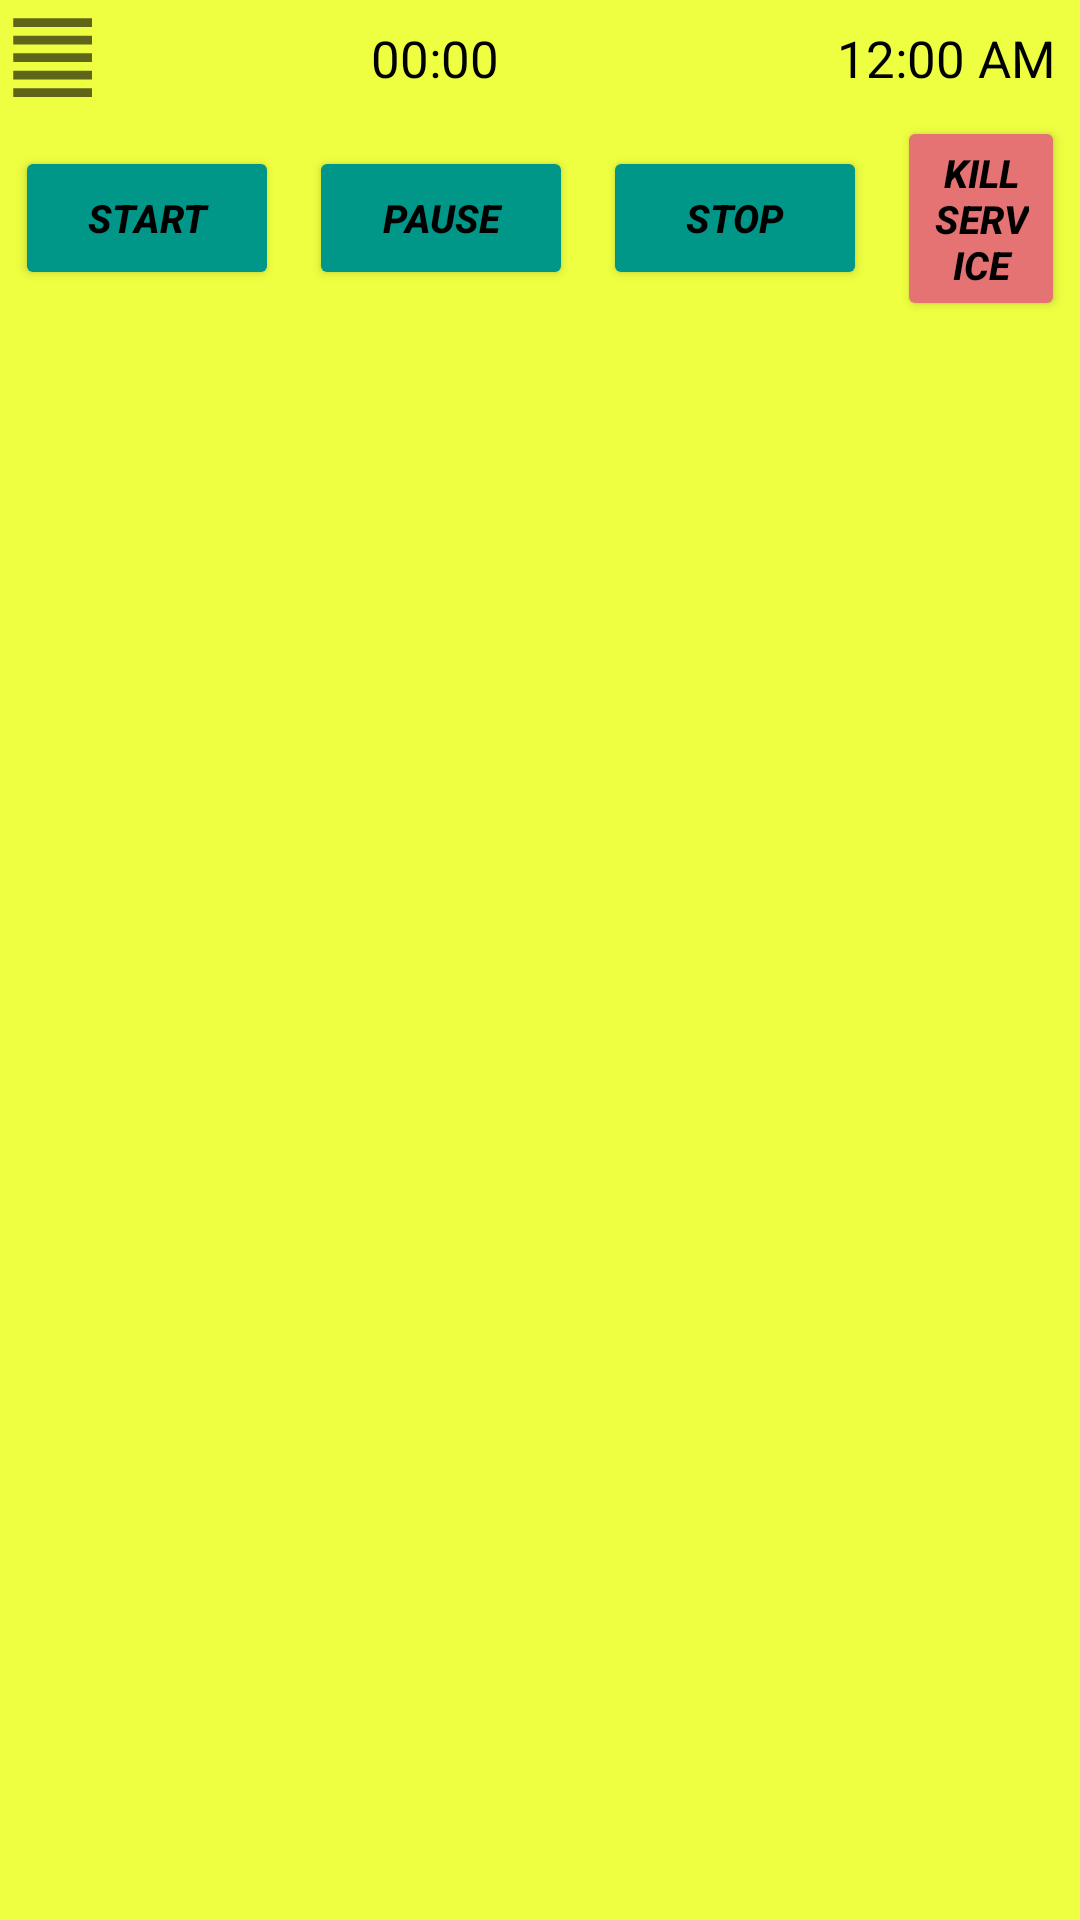

Locate icon controls on the screen. Image size 1080w x 1920h, boxes as (x1, y1, x2, y2).
format align justify: (13, 18, 92, 97)
